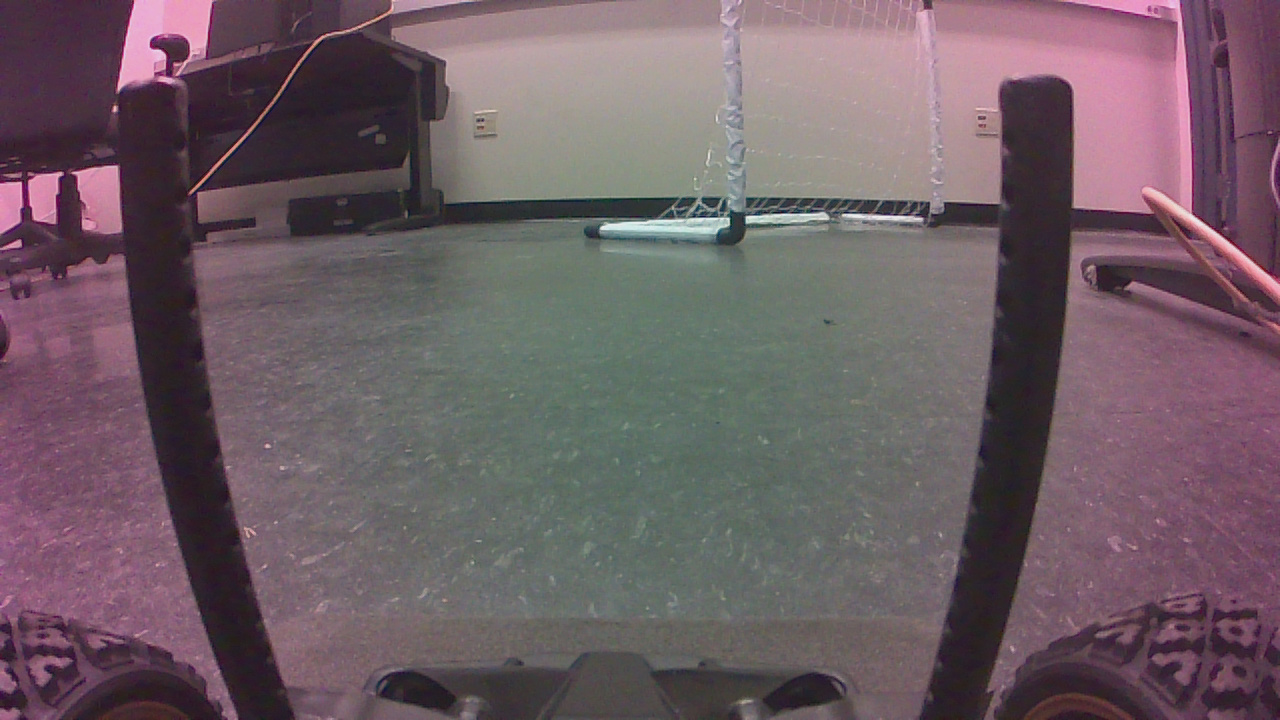goal: (585, 6, 951, 247)
